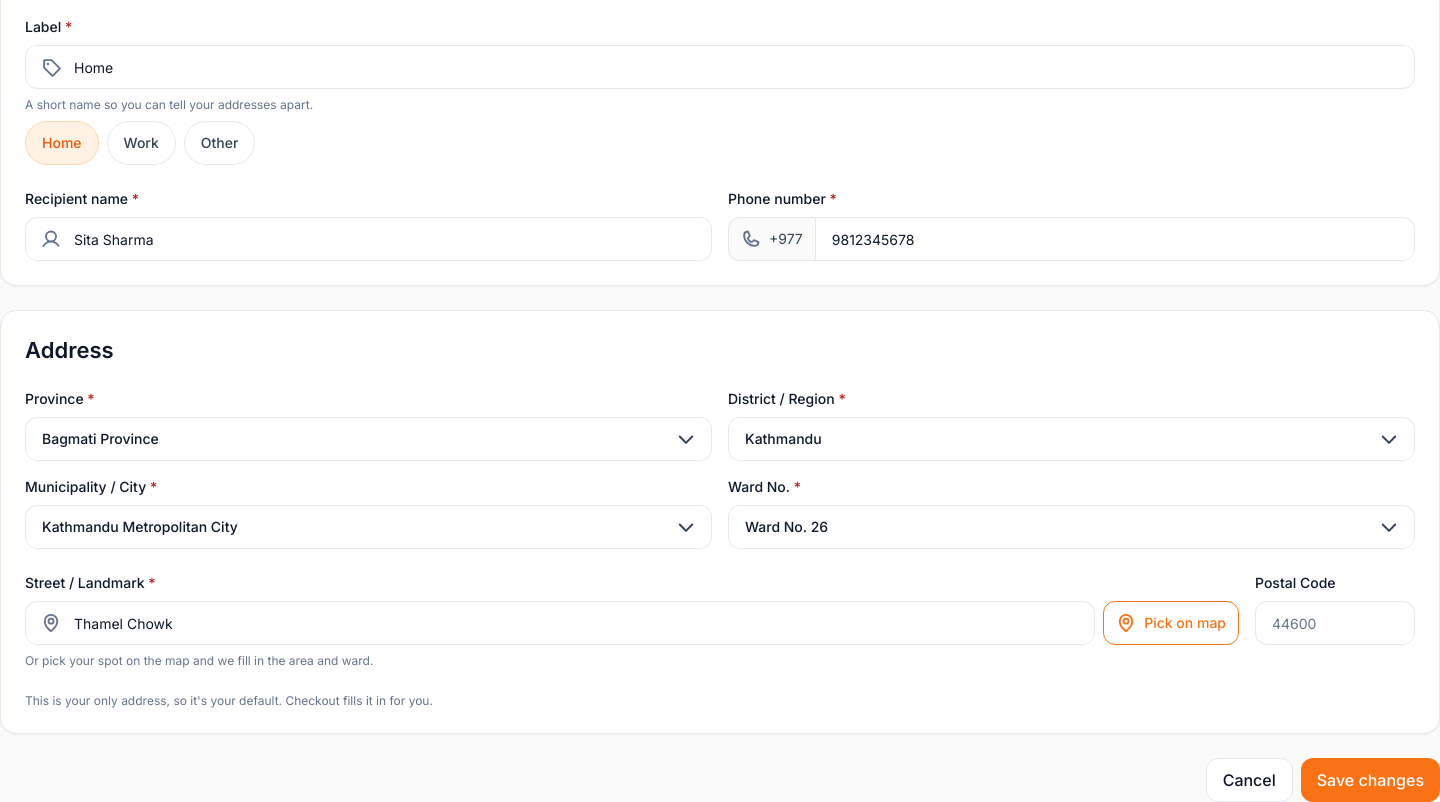
Test: AddressForm › shows server errors on the form and its fields
The width and height of the screenshot is (1440, 802).
(page scrolled)
Click the button "Save changes": (1370, 780) [1301,758,1439,801]
(page scrolled)
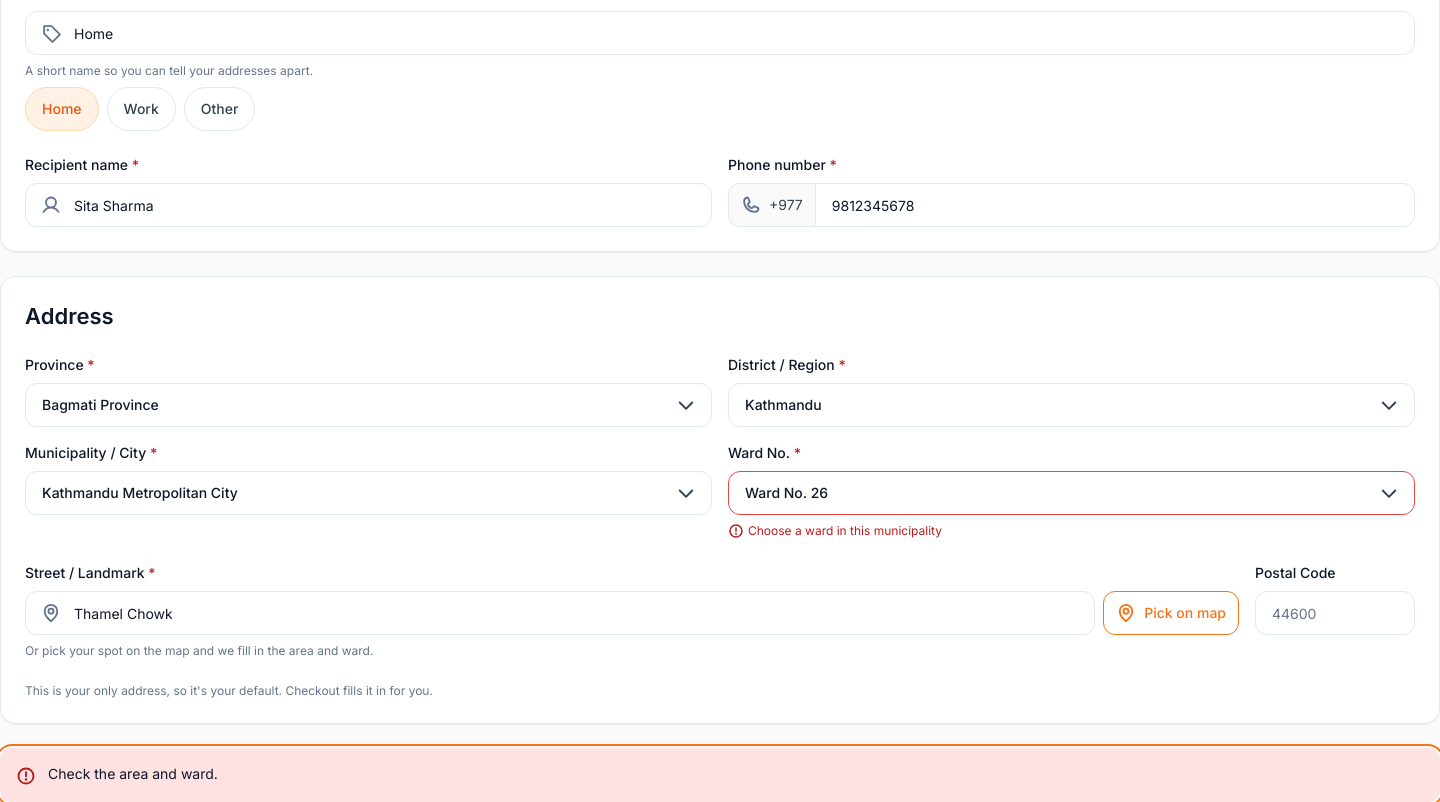
Expected: the message reads "Check the area and ward.", [48,765,218,782]
Expected: the text "Choose a ward in this municipality" is shown, [728,523,942,539]
